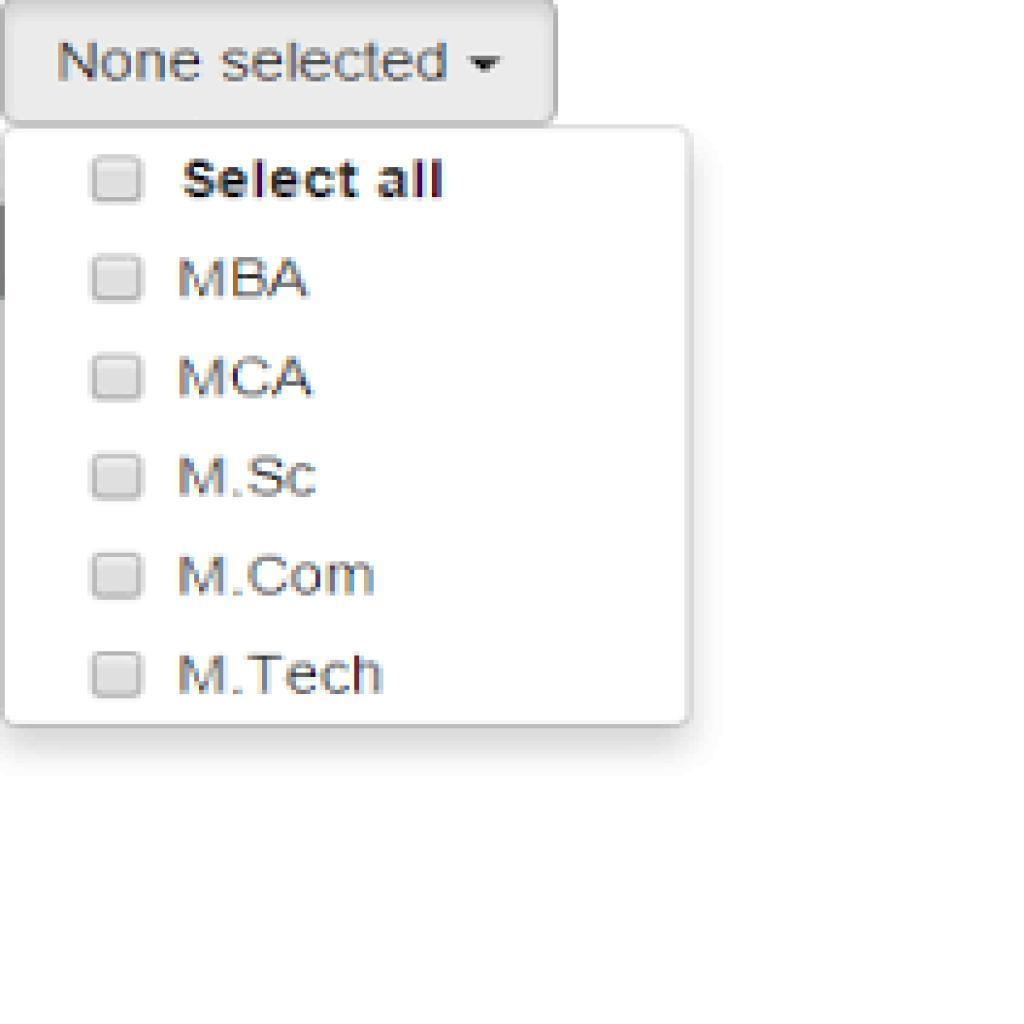checkbox: (92, 451, 145, 504), (91, 253, 146, 303), (91, 155, 144, 204), (91, 354, 145, 402), (92, 554, 144, 599), (95, 653, 147, 697)
dropdown: (1, 1, 556, 125)
label: (178, 151, 449, 207), (176, 646, 388, 703), (177, 552, 383, 604), (172, 248, 317, 303), (175, 449, 314, 503), (179, 351, 316, 405)
